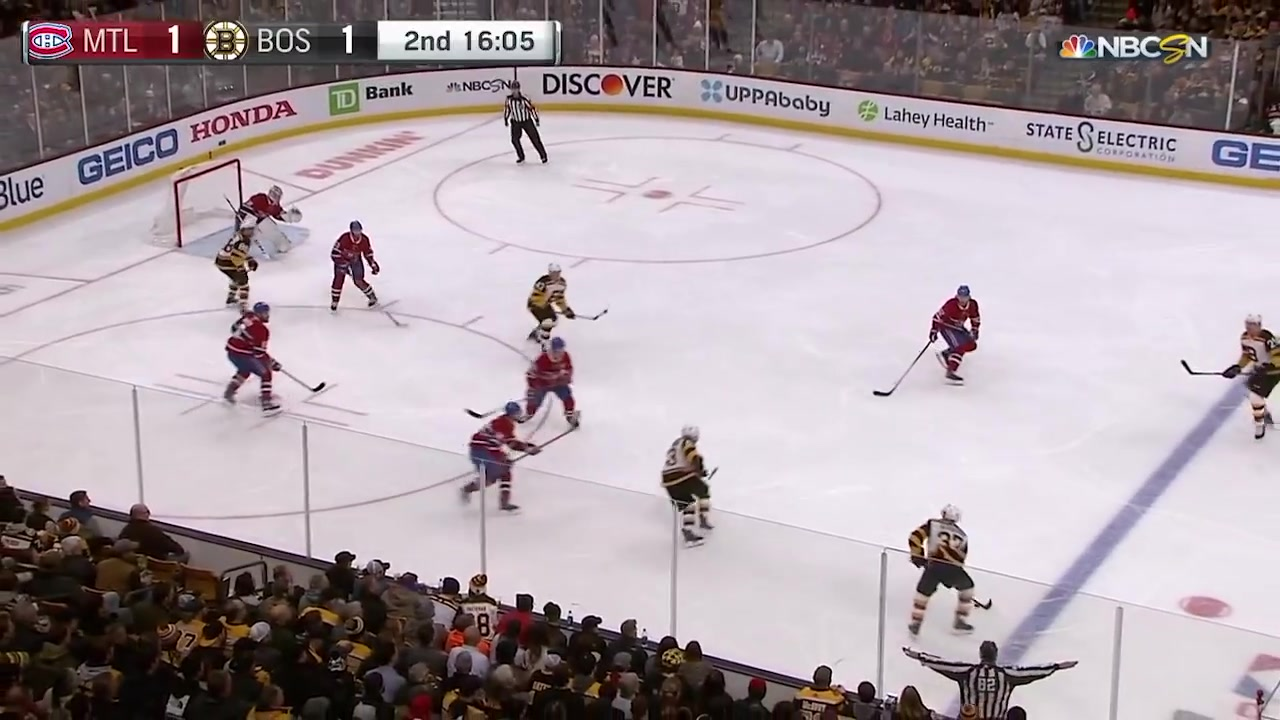geico: (74, 126, 190, 190)
